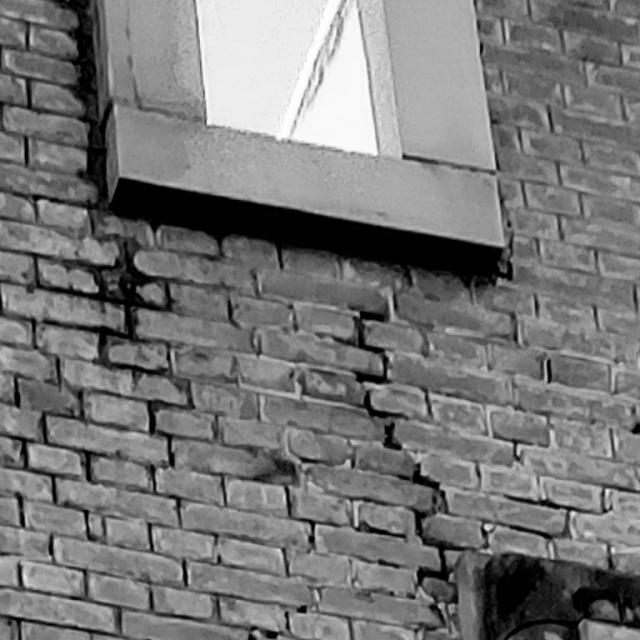crack: (355, 310, 449, 590)
